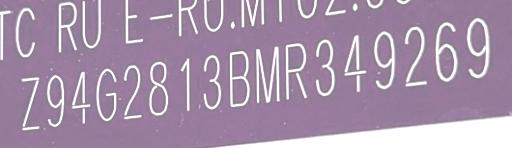letter: (460, 15, 490, 79), (251, 44, 283, 102), (340, 32, 370, 92), (310, 37, 340, 97), (400, 25, 428, 87), (370, 29, 398, 91), (431, 20, 459, 81), (13, 74, 43, 130), (224, 47, 252, 107), (196, 50, 224, 108), (92, 66, 120, 123), (283, 42, 311, 98), (120, 62, 146, 120), (145, 57, 171, 112), (68, 70, 92, 125), (42, 72, 66, 127), (174, 54, 196, 110)
